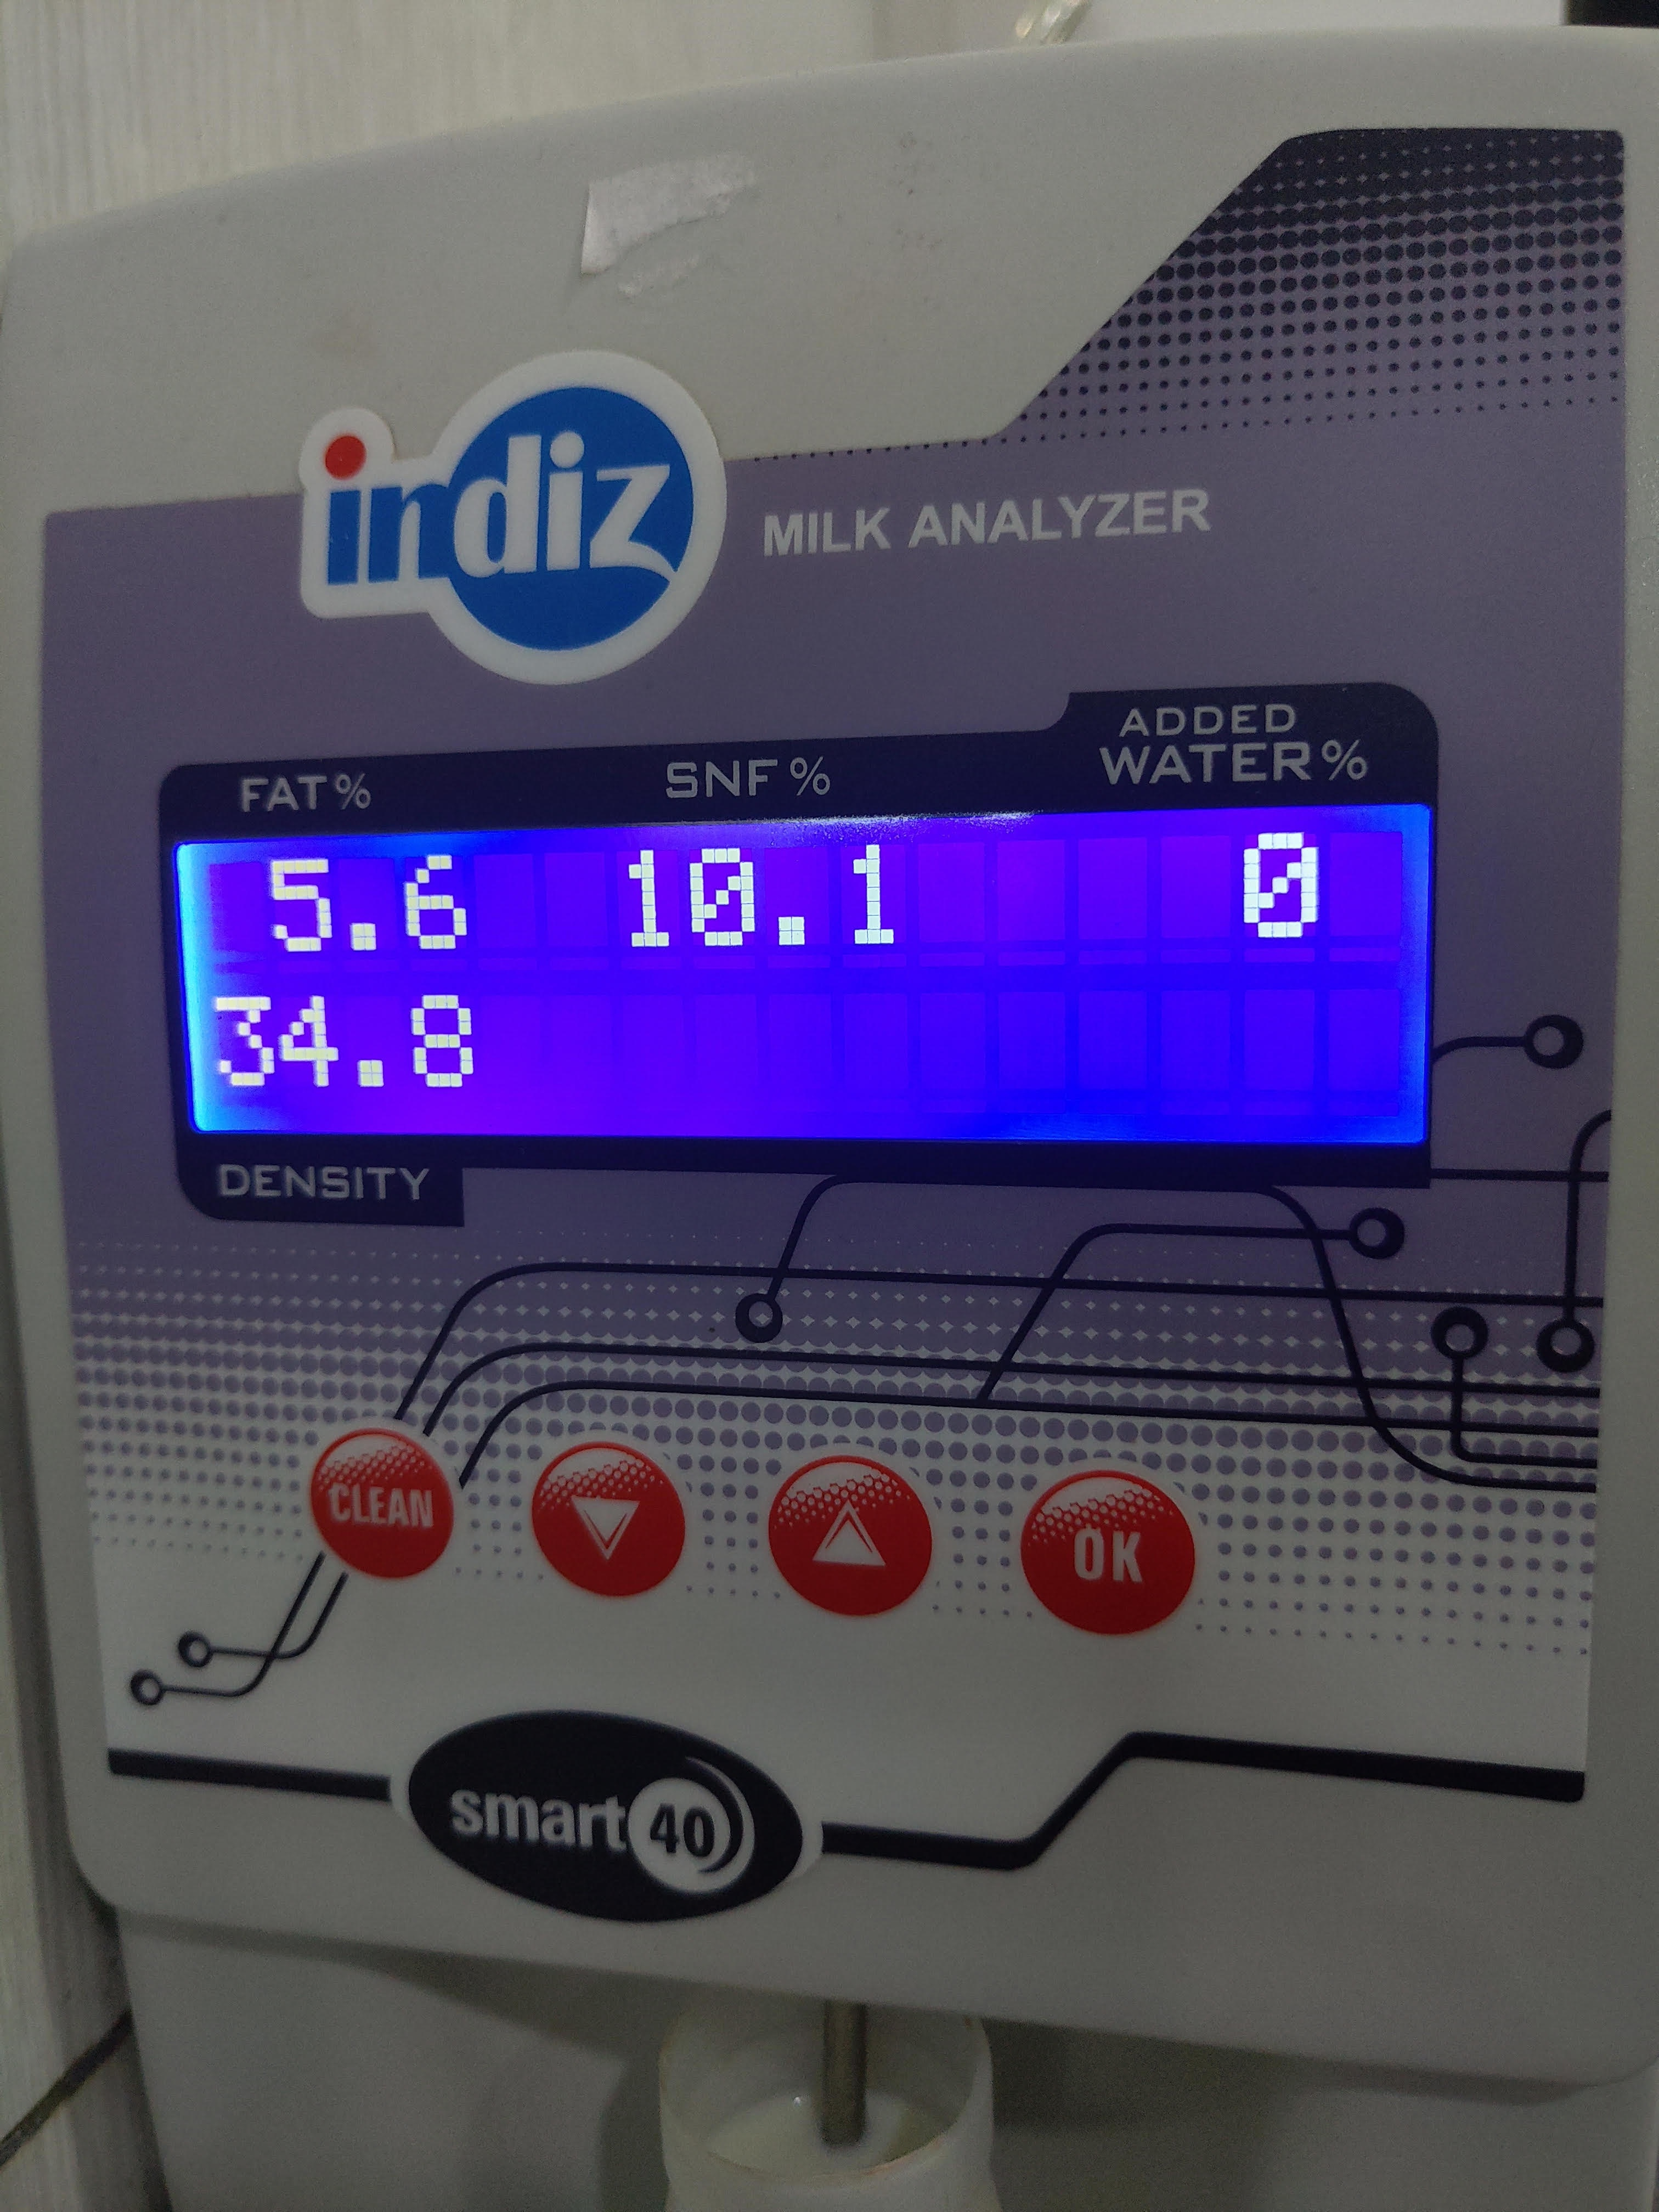lcd: (176, 812, 1445, 1163)
